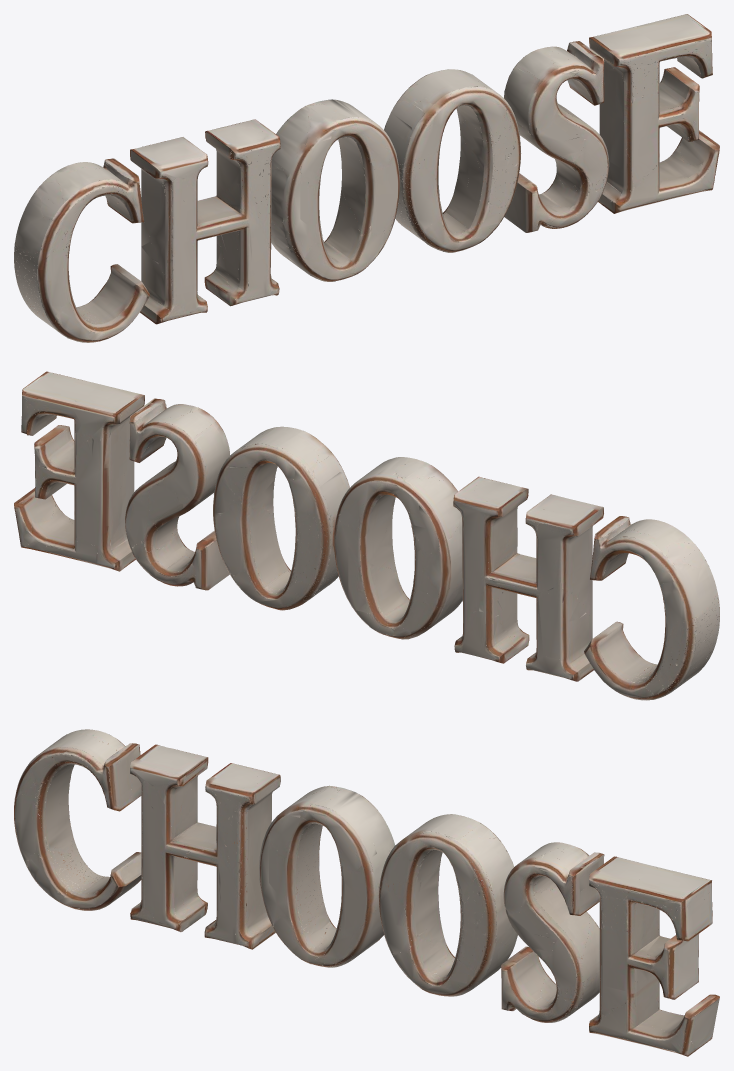
File: wordmark-01-choose.glb
3 views of the same model, one above another, from view 1: azimuth 30°, elevation 25°; view 2: azimuth 150°, elevation 25°; view 3: azimuth 330°, elevation 25° (orthographic).
Visible parts, largest first — view 1: wordmark-choose; view 2: wordmark-choose; view 3: wordmark-choose.
Part boxes in pixels (left/top/right/bottom): wordmark-choose: left=14, top=14, right=719, bottom=342; wordmark-choose: left=14, top=371, right=719, bottom=700; wordmark-choose: left=14, top=729, right=719, bottom=1056.
Size of the model in its own units: 2 by 0.4617 by 0.16.
Materials: 1 (1 with a texture image).
